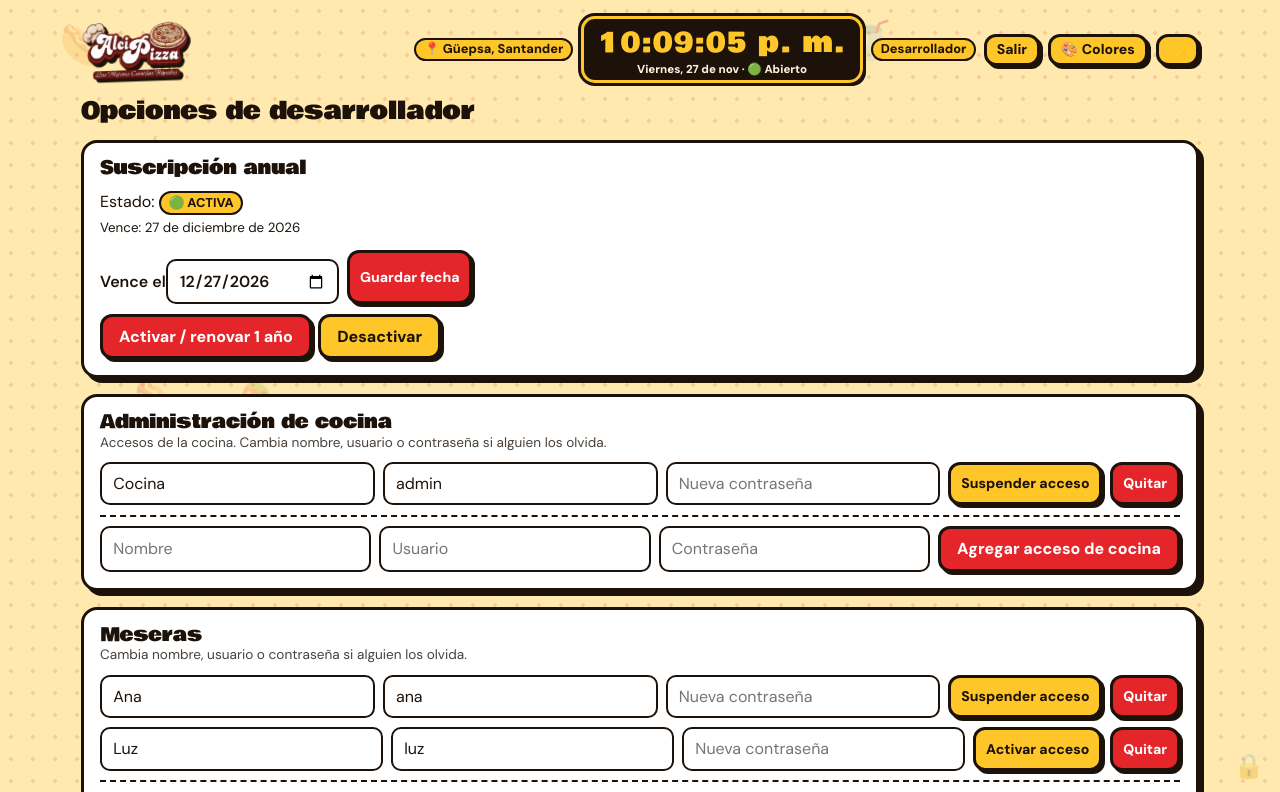
Test: DevPage · suscripción › cambia la fecha "hasta"
Expected: the text "🟢 ACTIVA" is shown, [159,191,243,215]
In the date field labelled "Vence el": (252, 282) [166,259,339,304], type "2027-12-31"
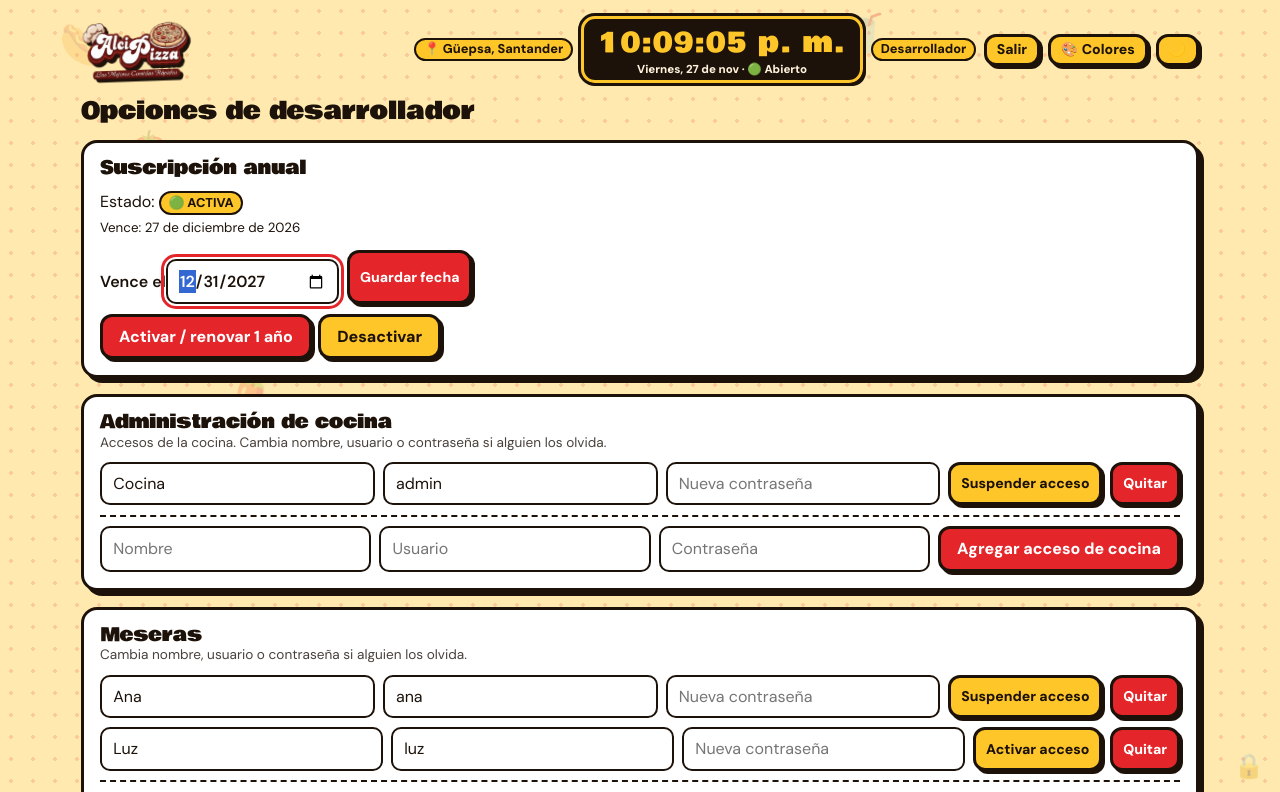
Click the button "Guardar fecha": (410, 277) [347,250,472,304]
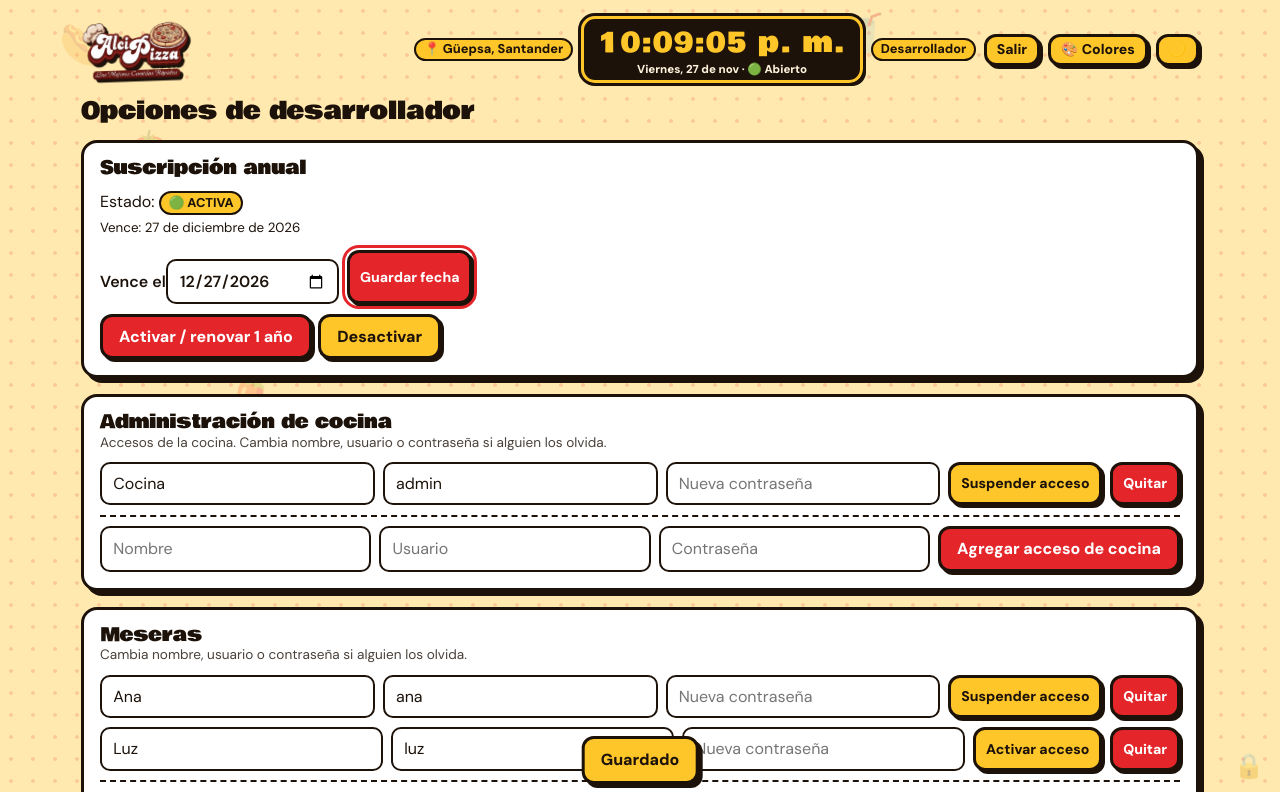
Expected: the message reads "Guardado", [601,749,679,770]
